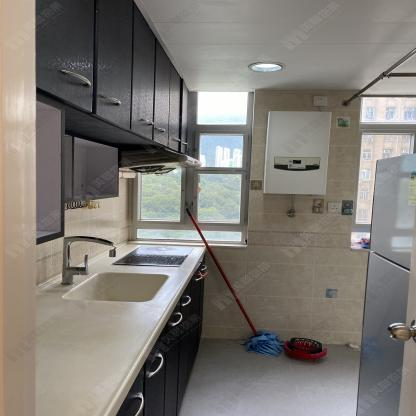Cupboard: (32, 0, 191, 156)
Faucet: (62, 234, 117, 283)
Fridge: (357, 154, 416, 415), (358, 155, 416, 413)
Sink: (64, 272, 175, 303)
Stove: (118, 148, 201, 175)
